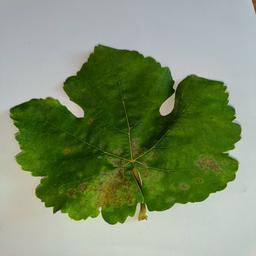Powdery-Mildew: (95, 172, 135, 206)
